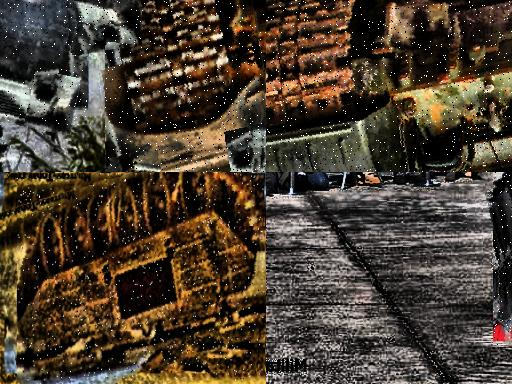tanks: (18, 173, 264, 381), (267, 1, 512, 173), (106, 1, 267, 173), (1, 1, 87, 126), (79, 1, 142, 46)
